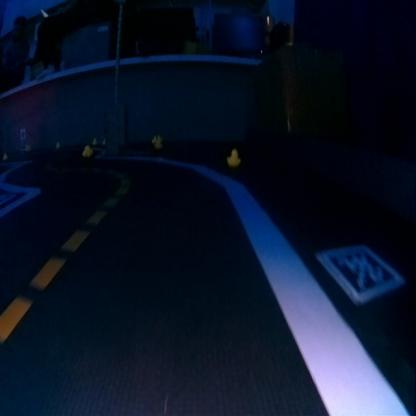Duckie: (227, 148, 240, 165), (82, 145, 90, 154)
QR code: (319, 247, 404, 297)
